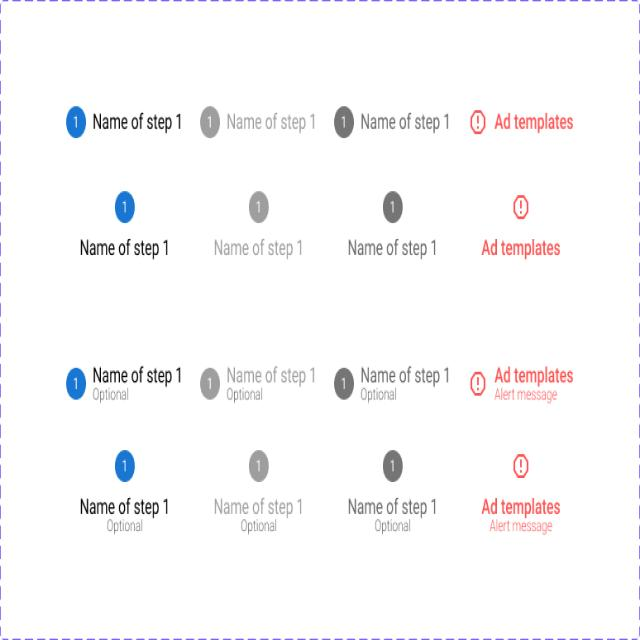VStepper: (57, 447, 583, 543), (57, 185, 598, 268), (54, 348, 582, 425), (62, 100, 581, 143)
